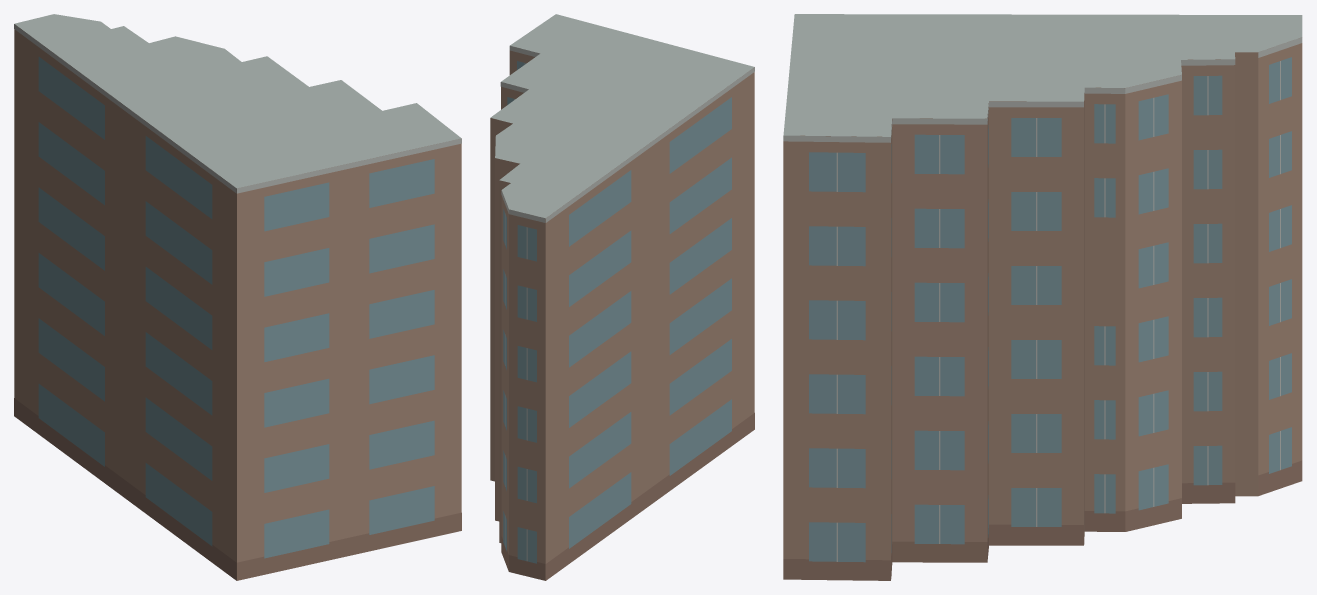
The model's file is survey-upis-32542734.glb.
The picture shows the model from 3 angles, left to right: view 1: azimuth 30°, elevation 25°; view 2: azimuth 150°, elevation 25°; view 3: azimuth 270°, elevation 25°; orthographic projection. The views are drawn at different scales.
Visible parts, largest first — view 1: survey-upis-32542734.tmp; view 2: survey-upis-32542734.tmp; view 3: survey-upis-32542734.tmp.
Boxes of the visible parts, <box> form: survey-upis-32542734.tmp: <box>14,14,461,580</box>; survey-upis-32542734.tmp: <box>490,14,754,580</box>; survey-upis-32542734.tmp: <box>783,14,1302,580</box>.
Bounding box in the file's own units: 10.87 × 18.3 × 19.4.
